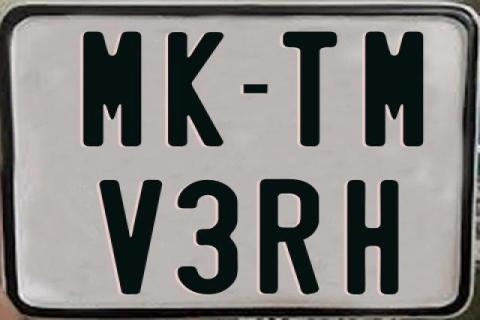0: (178, 179, 242, 297)
H: (345, 180, 403, 298)
K: (168, 29, 228, 145)
M: (362, 31, 426, 148), (81, 30, 140, 148)
R: (260, 179, 324, 297)
T: (280, 31, 340, 149)
V: (96, 178, 159, 292)
